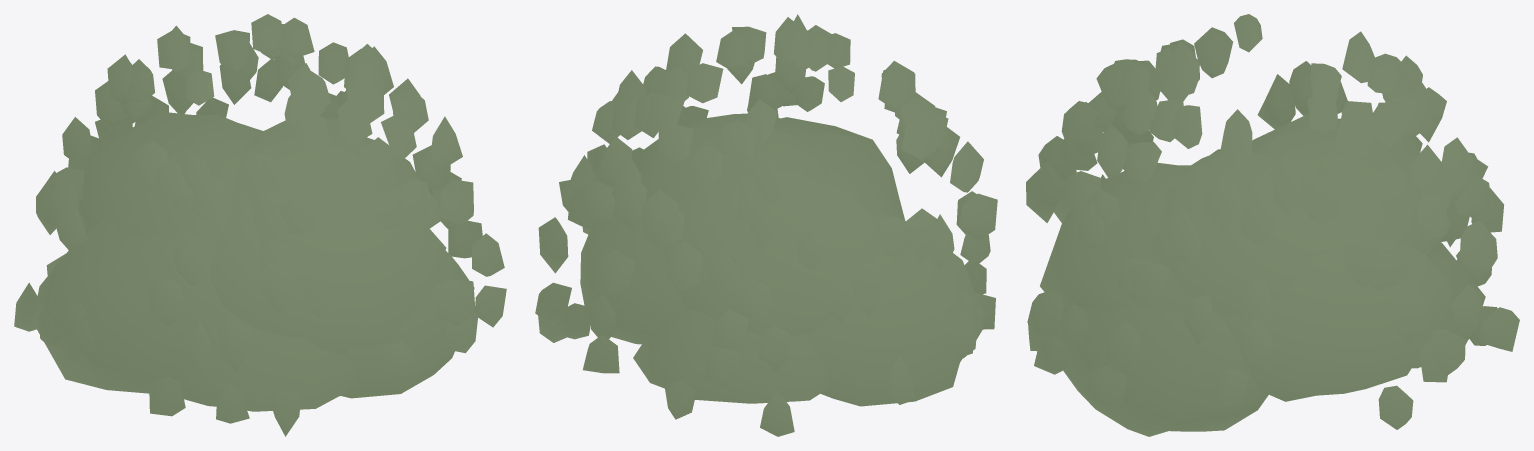
The model's file is Blender_Jojoba_1.glb.
The picture shows the model from 3 angles, left to right: view 1: azimuth 30°, elevation 25°; view 2: azimuth 150°, elevation 25°; view 3: azimuth 270°, elevation 25°; orthographic projection. The views are drawn at different scales.
Visible parts, largest first — view 1: Blender_Jojoba_1; view 2: Blender_Jojoba_1; view 3: Blender_Jojoba_1.
Boxes of the visible parts, bbox=[...] form: Blender_Jojoba_1: bbox=[14, 14, 506, 436]; Blender_Jojoba_1: bbox=[535, 14, 997, 436]; Blender_Jojoba_1: bbox=[1026, 14, 1519, 436].
Bounding box in the file's own units: 1.81 × 1.39 × 1.73.
